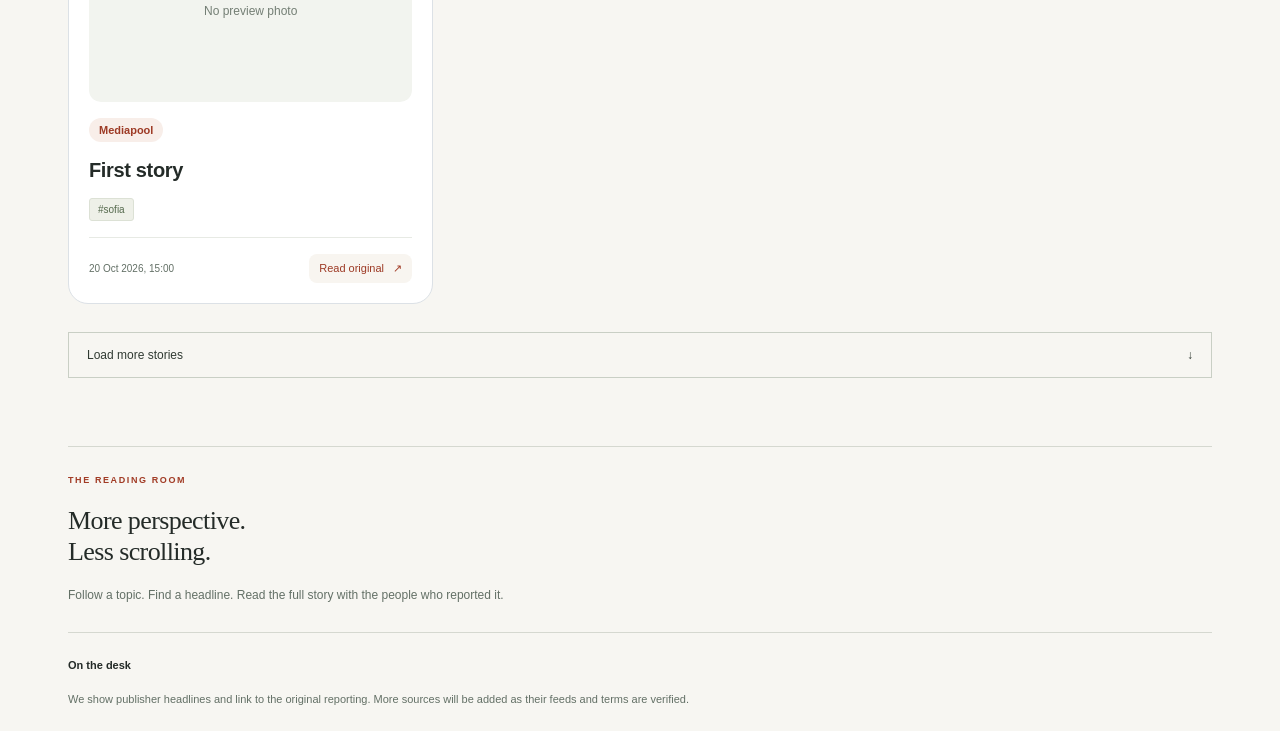
news feed › retries filters without losing loaded pages and refreshes news without reloading options
(page scrolled)
Click the button "Load more stories ↓".
click(135, 355)  # box [68,332,1212,378]
(page scrolled)
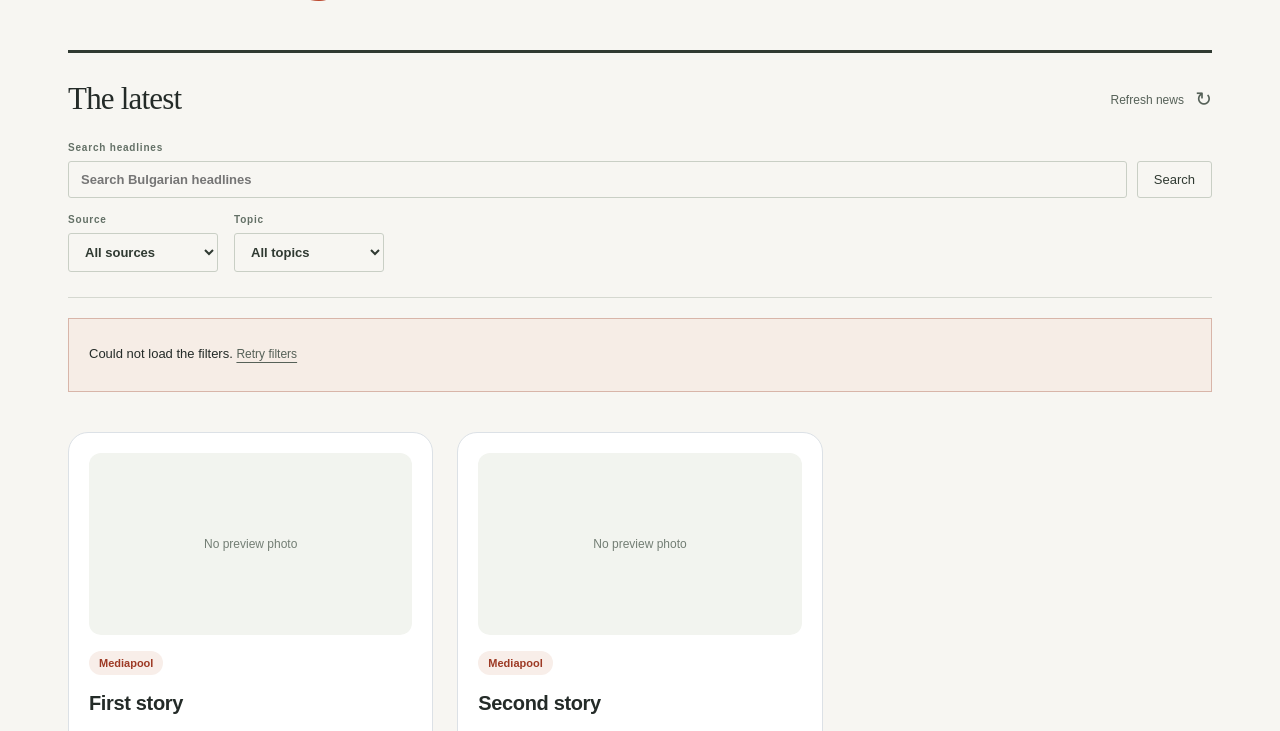
expect the link "Second story" is shown: met, box [478,692,601,714]
Click the button "Retry filters".
click(267, 355)  # box [236,339,297,371]
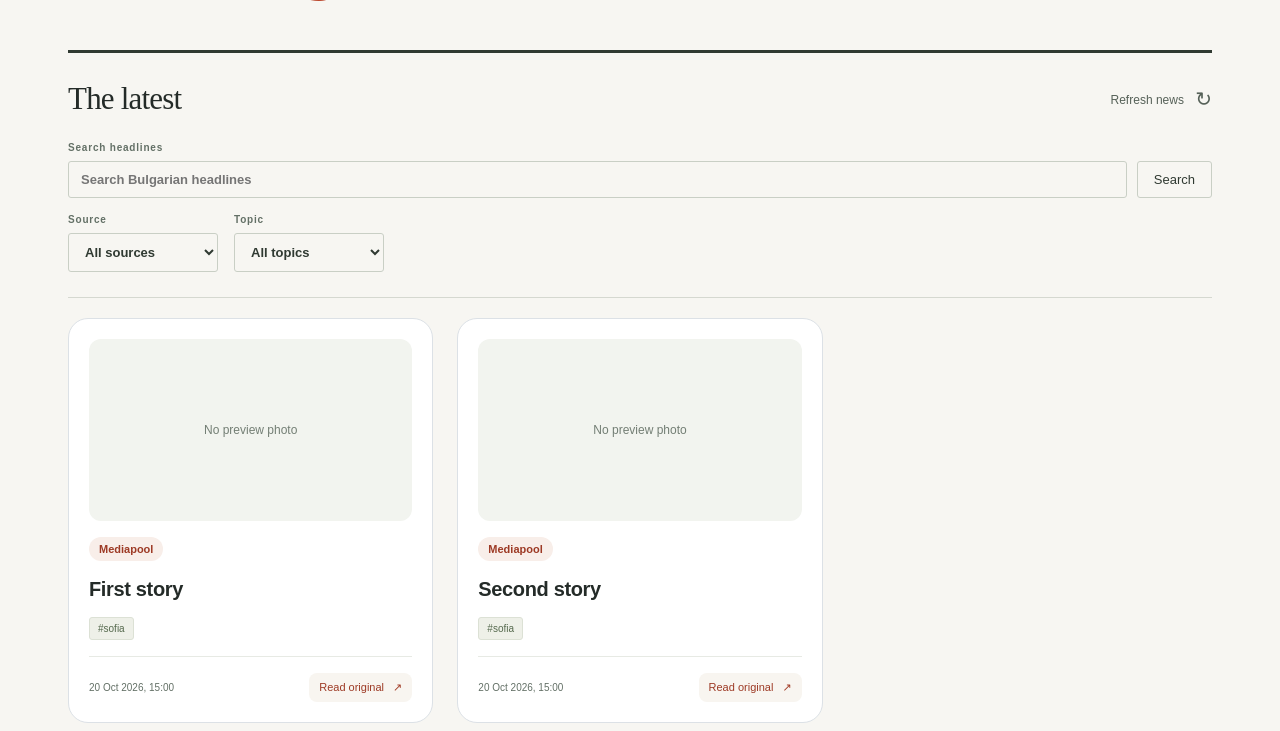
expect the link "Second story" is shown: met, box [478,578,601,600]
expect the message "Could not load the filters. Retry filters" is gone: met
Click the button "Refresh news ↻".
click(1161, 99)  # box [1110,82,1212,116]
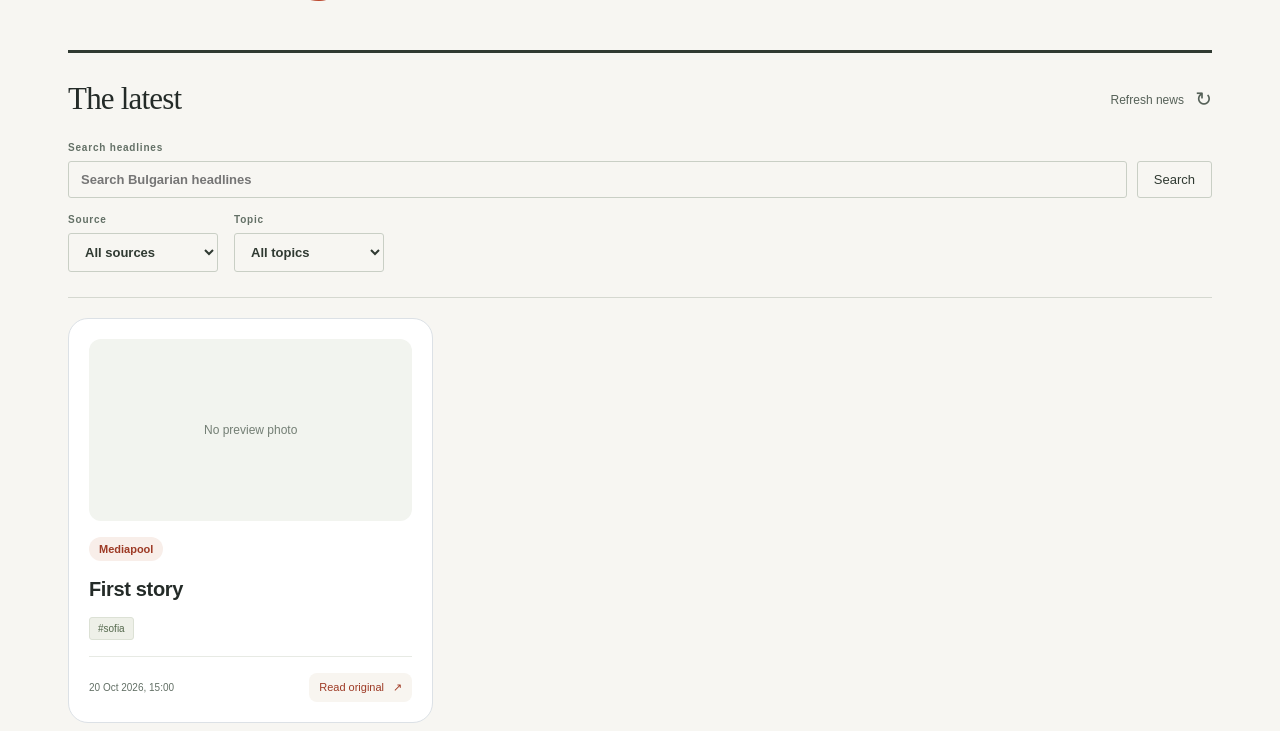
expect the link "First story" is shown: met, box [89,578,183,600]
expect the link "Second story" is gone: met
